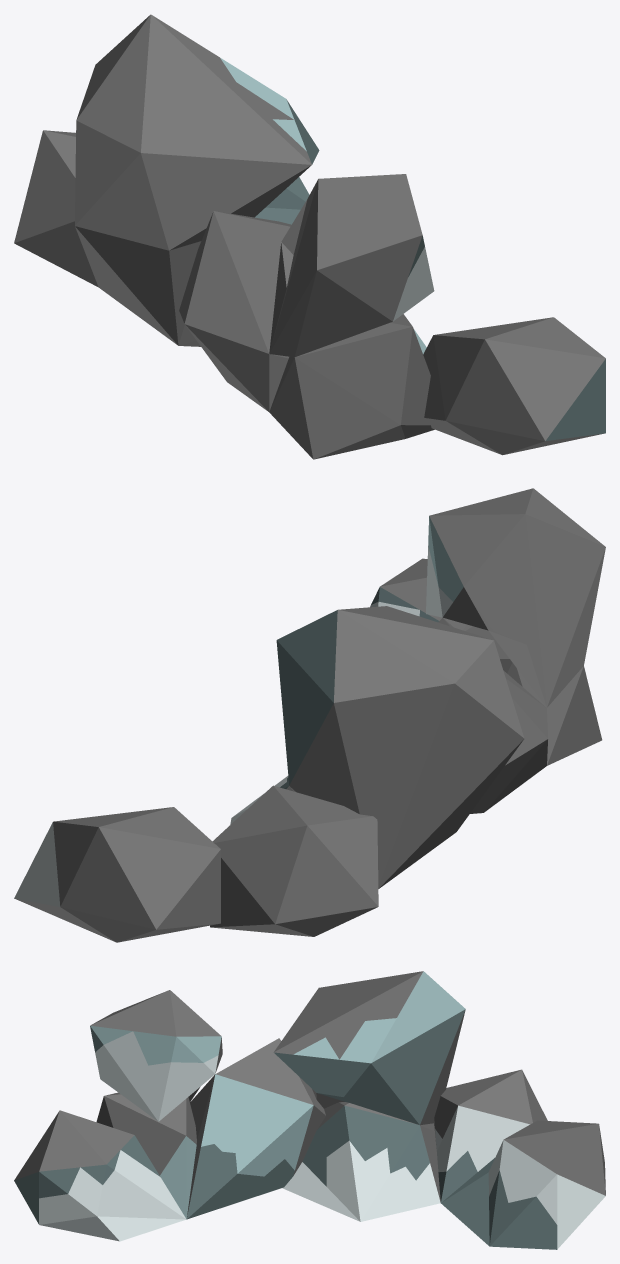
File: Rubble Level 2.fbx
3 renders of one model, top to bottom at view 1: azimuth 30°, elevation 25°; view 2: azimuth 150°, elevation 25°; view 3: azimuth 270°, elevation 25°, orthographic. The views are drawn at different scales.
Parts seen in each view (by area): view 1: group8_pasted__group6_pasted__pasted__group4_pasted__pasted_; view 2: group8_pasted__group6_pasted__pasted__group4_pasted__pasted_; view 3: group8_pasted__group6_pasted__pasted__group4_pasted__pasted_.
Part boxes in pixels (x1,y1,x2,y2): group8_pasted__group6_pasted__pasted__group4_pasted__pasted_: (14, 14, 605, 459); group8_pasted__group6_pasted__pasted__group4_pasted__pasted_: (14, 488, 605, 942); group8_pasted__group6_pasted__pasted__group4_pasted__pasted_: (14, 971, 605, 1249).
Size of the model in its own units: 20.66 by 15.6 by 40.88.
